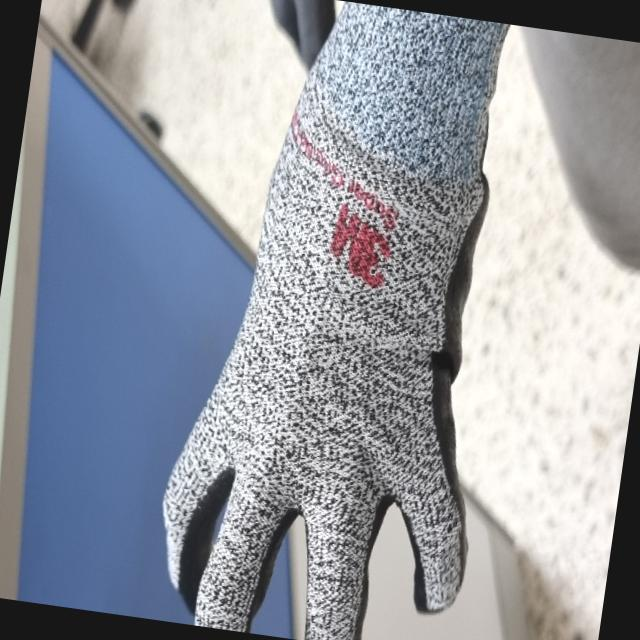Gloves: (157, 26, 513, 640)
